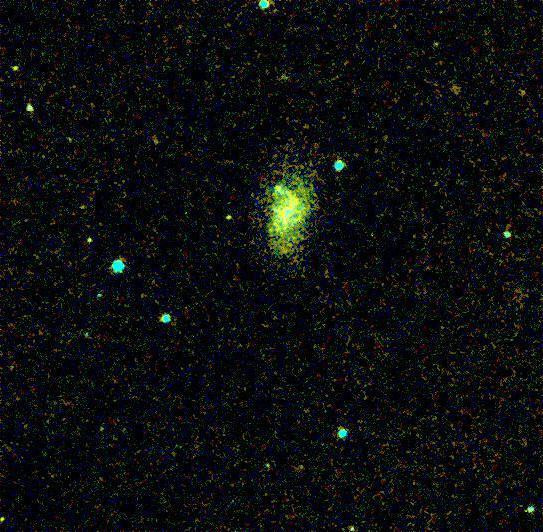star: (263, 174, 293, 204)
